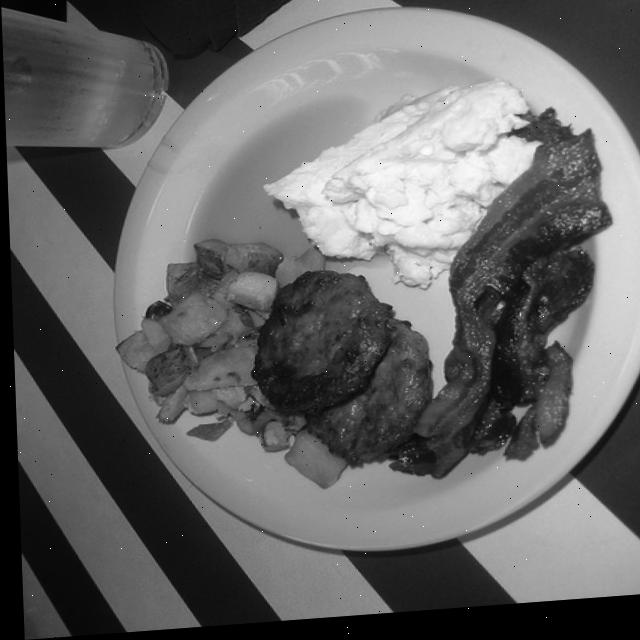鸡蛋料理: (92, 0, 629, 580)
